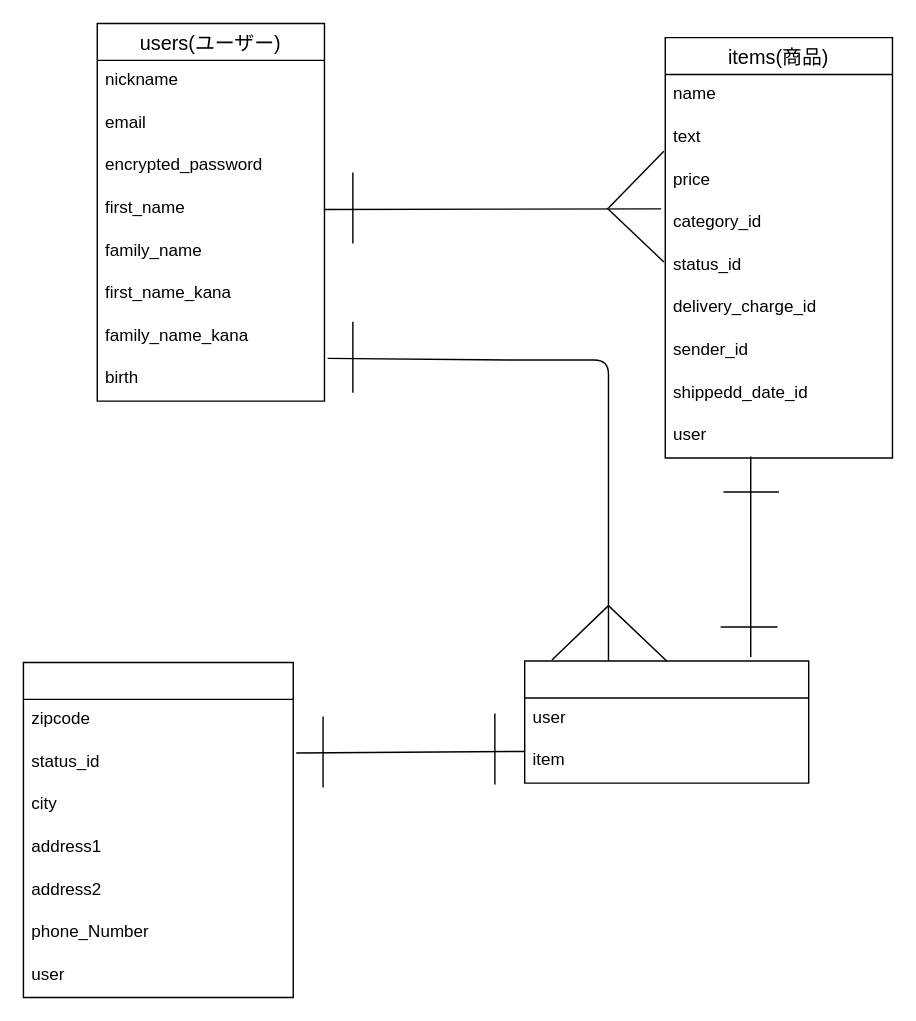
This 916x1021 diagram has some shape labels left out. The shapes that lost their labels are listed below. From the top down, each one's box as (x1, y1, x2, y2) in pixels, then its label:
(523, 660, 809, 783): orders(購入記録)
(22, 661, 293, 998): addresses(発送先)
